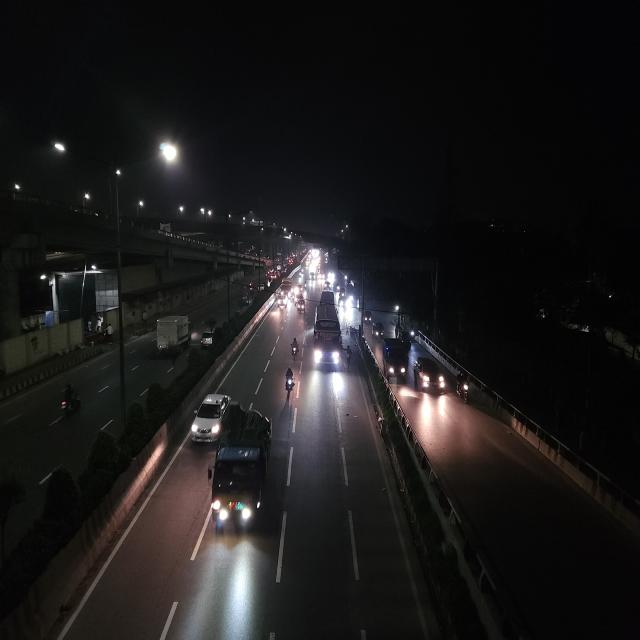bus: (311, 300, 344, 370)
car: (190, 387, 229, 443), (413, 353, 446, 396), (202, 325, 220, 352), (338, 294, 350, 308), (277, 295, 288, 307), (322, 281, 332, 290)
cng: (371, 319, 384, 340), (362, 308, 373, 325), (297, 298, 306, 315), (339, 287, 345, 297)
motorcycle: (58, 384, 83, 418), (455, 367, 472, 405), (284, 363, 296, 400), (288, 335, 301, 361), (303, 279, 308, 291), (334, 281, 340, 291)
pedestrian: (343, 344, 352, 368)
pickup_van: (208, 402, 275, 538)
truck: (154, 308, 192, 354), (381, 335, 408, 384), (278, 279, 293, 296)
